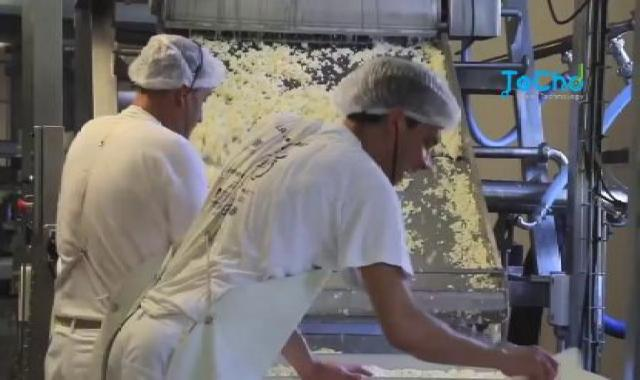hairnet: (339, 52, 465, 139), (120, 33, 242, 95)
